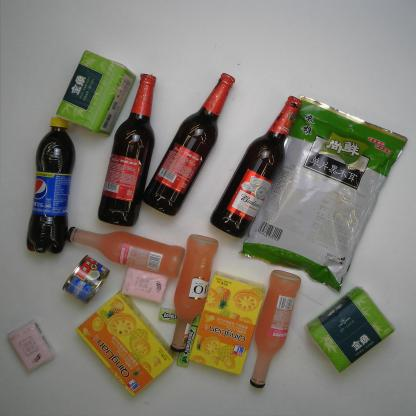Alcohol: (139, 72, 237, 218), (210, 94, 302, 239), (97, 73, 158, 227), (66, 225, 187, 279), (248, 269, 302, 389), (170, 233, 219, 353)
Canned Food: (61, 254, 110, 305)
Dessert: (75, 289, 174, 396), (188, 270, 265, 376)
Dried Food: (237, 94, 410, 295)
Drink: (26, 116, 77, 255)
Gum: (176, 326, 198, 368), (158, 307, 200, 327)
Tissue: (304, 286, 396, 374), (56, 49, 138, 138), (7, 318, 56, 373), (121, 266, 169, 304)
